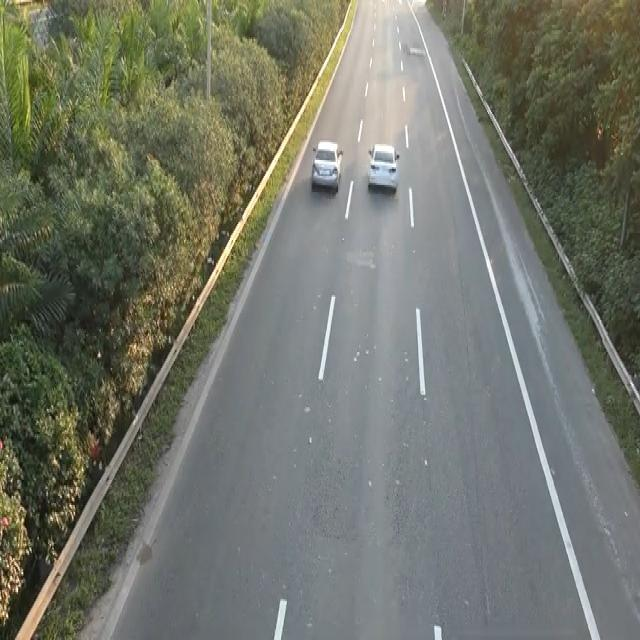bus: (310, 137, 343, 192), (366, 139, 400, 192)
